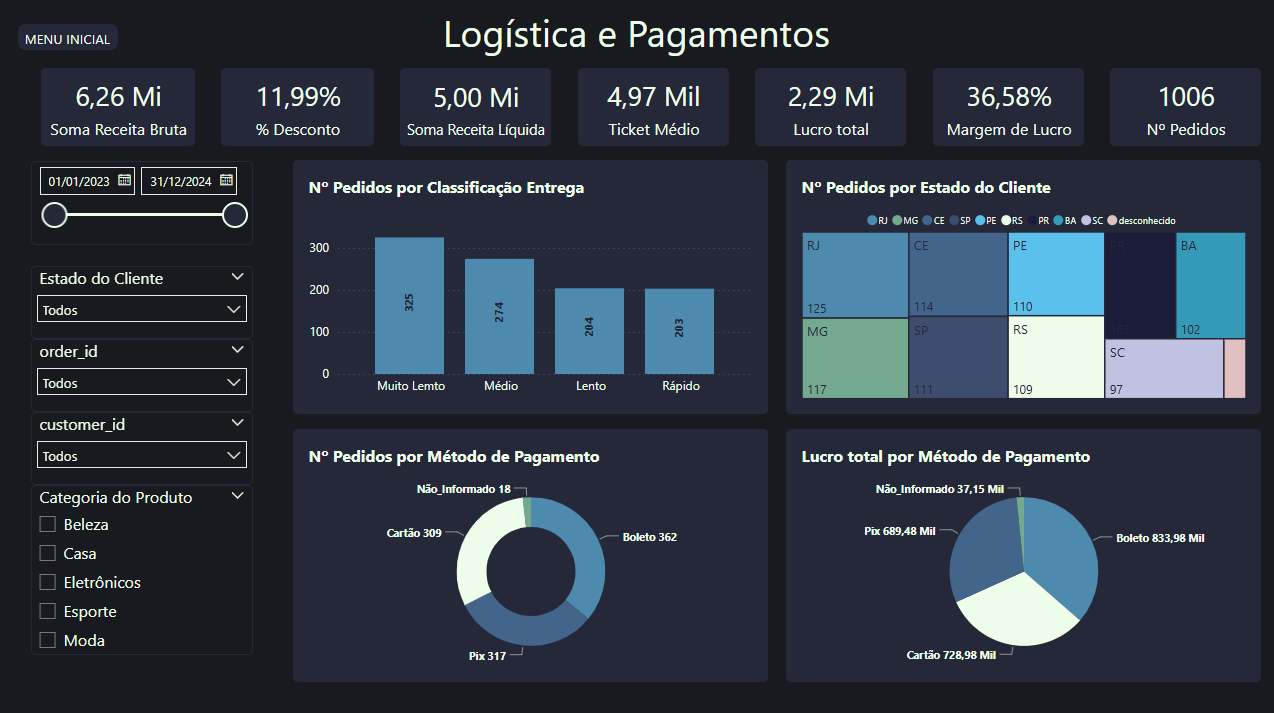

The page's visual inventory and layout, read from the dashboard file:
{"tool":"powerbi","page":{"name":"Logística/ Pagamentos","canvas":[1280,720],"ordinal":3},"visuals":[{"type":"textbox","box":[396.5,9.9,486.9,57.3],"z":0},{"type":"clusteredColumnChart","fields":{"Y":["ShopMax.Nº Pedidos"],"Category":["ShopMax.Classificação Entrega"]},"box":[296.3,163,475.1,253.8],"z":1000},{"type":"treemap","fields":{"Group":["ShopMax.Estado do Cliente"],"Values":["ShopMax.Nº Pedidos"]},"box":[789.1,163,475.1,253.8],"z":2000},{"type":"card","fields":{"Values":["ShopMax.Soma Receita Bruta"]},"box":[44.5,71.1,153.1,78],"z":3000},{"type":"card","fields":{"Values":["ShopMax.% Desconto"]},"box":[223.9,71.1,153.1,78],"z":4000},{"type":"card","fields":{"Values":["ShopMax.Soma Rceita Líquida"]},"box":[403.3,71.1,151.1,78],"z":5000},{"type":"card","fields":{"Values":["ShopMax.Lucro total"]},"box":[758.2,71.1,151.1,78],"z":6000},{"type":"card","fields":{"Values":["ShopMax.Margem de Lucro"]},"box":[935.6,71.1,151.1,78],"z":7000},{"type":"card","fields":{"Values":["ShopMax.Ticket Médio"]},"box":[580.7,71.1,151.1,78],"z":8000},{"type":"card","fields":{"Values":["ShopMax.Nº Pedidos"]},"box":[1113.1,71.1,151.1,78],"z":9000},{"type":"slicer","fields":{"Values":["ShopMax.order_date"]},"box":[33.6,163.9,222.2,84],"z":10000},{"type":"slicer","fields":{"Values":["ShopMax.Categoria do Produto"]},"box":[33.5,487.9,222.5,170.1],"z":11000},{"type":"slicer","fields":{"Values":["ShopMax.Estado do Cliente"]},"box":[33.6,268.6,222.2,73.1],"z":12000},{"type":"slicer","fields":{"Values":["ShopMax.order_id"]},"box":[33.6,341.7,222.2,73.1],"z":13000},{"type":"slicer","fields":{"Values":["ShopMax.customer_id"]},"box":[33.6,414.8,222.2,73.1],"z":14000},{"type":"donutChart","fields":{"Y":["ShopMax.Nº Pedidos"],"Category":["ShopMax.Método de Pagamento"]},"box":[296.3,431.6,475.1,253.8],"z":15000},{"type":"pieChart","fields":{"Y":["ShopMax.Lucro total"],"Category":["ShopMax.Método de Pagamento"]},"box":[789.1,431.6,475.1,253.8],"z":16000},{"type":"actionButton","box":[21.5,26.6,99.7,26.6],"z":17000}]}

Visuals, with their boxes in screenshot pixels (x1, y1, x2, y2), scaled from the page's 1280x720 canvas onto the 1274x713 screenshot:
textbox: bbox=(395, 10, 879, 67)
clusteredColumnChart - ShopMax.Nº Pedidos x ShopMax.Classificação Entrega: bbox=(295, 161, 768, 413)
treemap - ShopMax.Estado do Cliente x ShopMax.Nº Pedidos: bbox=(785, 161, 1258, 413)
card - ShopMax.Soma Receita Bruta: bbox=(44, 70, 197, 148)
card - ShopMax.% Desconto: bbox=(223, 70, 375, 148)
card - ShopMax.Soma Rceita Líquida: bbox=(401, 70, 552, 148)
card - ShopMax.Lucro total: bbox=(755, 70, 905, 148)
card - ShopMax.Margem de Lucro: bbox=(931, 70, 1082, 148)
card - ShopMax.Ticket Médio: bbox=(578, 70, 728, 148)
card - ShopMax.Nº Pedidos: bbox=(1108, 70, 1258, 148)
slicer - ShopMax.order_date: bbox=(33, 162, 255, 245)
slicer - ShopMax.Categoria do Produto: bbox=(33, 483, 255, 652)
slicer - ShopMax.Estado do Cliente: bbox=(33, 266, 255, 338)
slicer - ShopMax.order_id: bbox=(33, 338, 255, 411)
slicer - ShopMax.customer_id: bbox=(33, 411, 255, 483)
donutChart - ShopMax.Nº Pedidos x ShopMax.Método de Pagamento: bbox=(295, 427, 768, 679)
pieChart - ShopMax.Lucro total x ShopMax.Método de Pagamento: bbox=(785, 427, 1258, 679)
actionButton: bbox=(21, 26, 121, 53)
